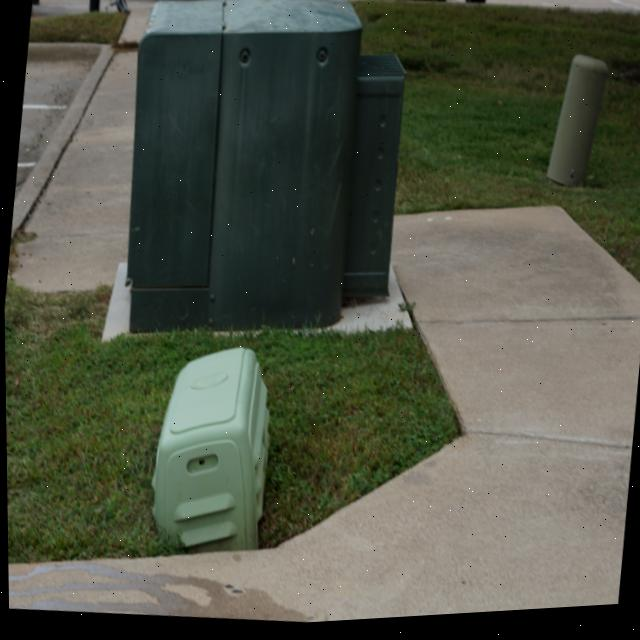Automobile: (409, 0, 486, 8)
Obstacle: (124, 1, 405, 335), (151, 350, 267, 551), (546, 62, 607, 192)
Road: (13, 43, 106, 201)
Sidewalk: (7, 213, 640, 626), (10, 47, 137, 292)
